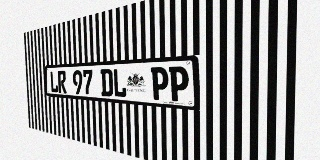7: (82, 70, 93, 95)
9: (73, 70, 83, 95)
D: (100, 69, 113, 97)
L: (113, 68, 127, 98), (50, 71, 58, 93)
P: (169, 66, 189, 102), (151, 67, 169, 101)
R: (57, 71, 67, 93)
